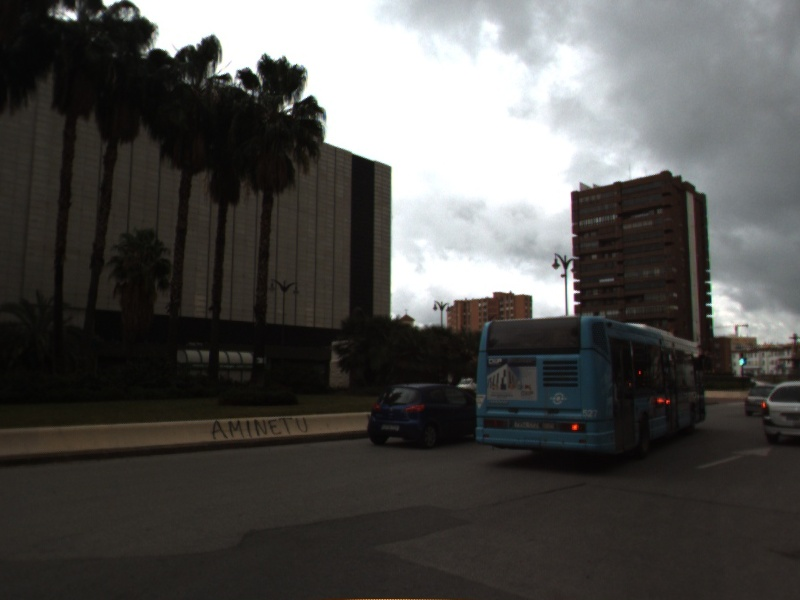STRAIGHT: (693, 445, 773, 471)
